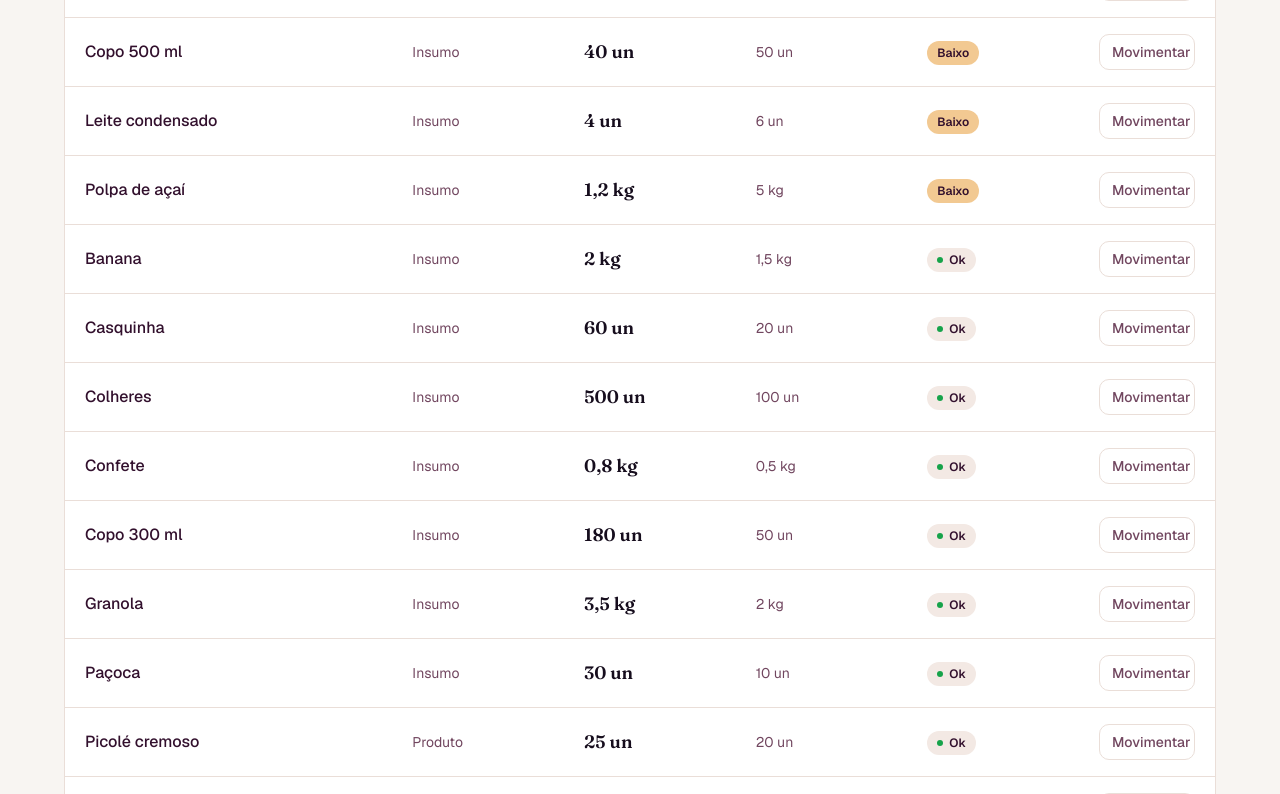
InventoryExperience › reads a thousands dot as thousands for items counted in units
This screenshot has width=1280, height=794.
(page scrolled)
Click the button with aria-label "Movimentar Colheres" at (1147, 397), box x1=1099 y1=379 x2=1195 y2=415
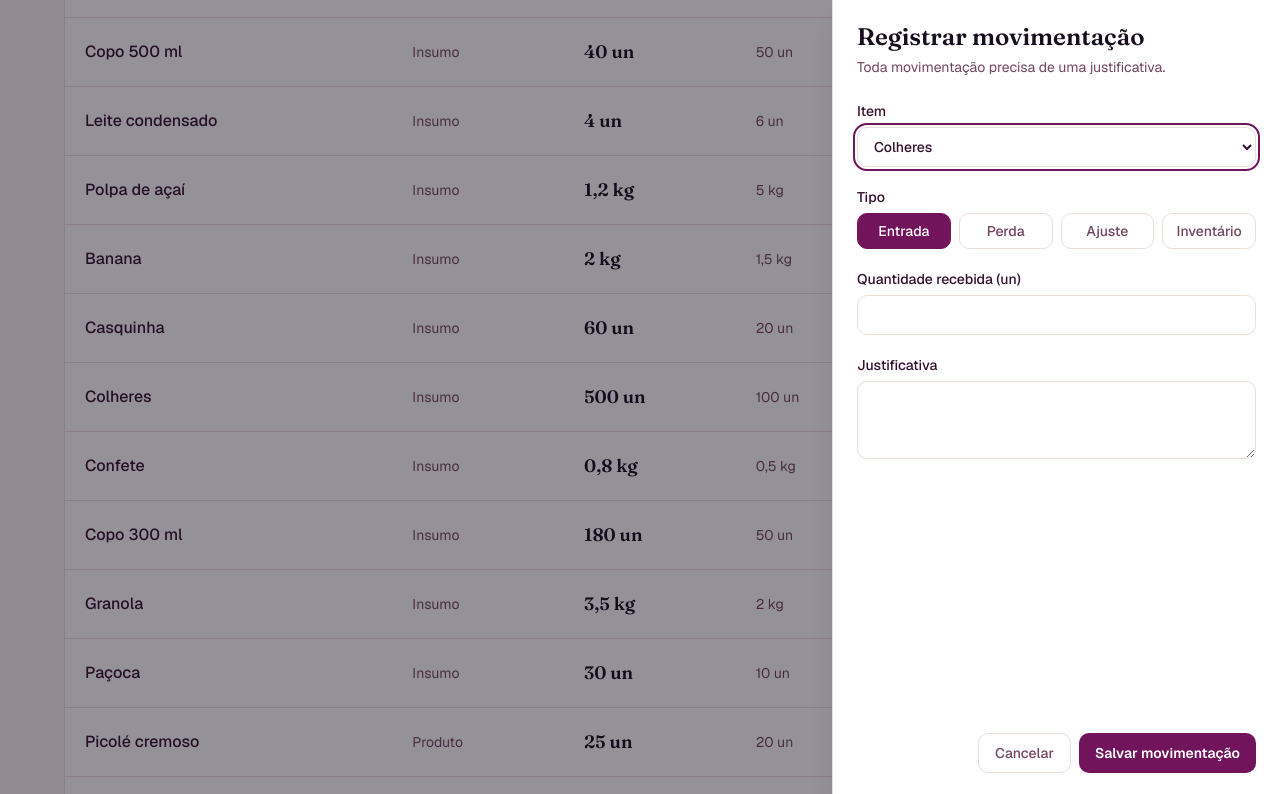
Type "1.000" into the field labelled "Quantidade recebida (un)" at (1056, 315), box x1=857 y1=295 x2=1256 y2=335
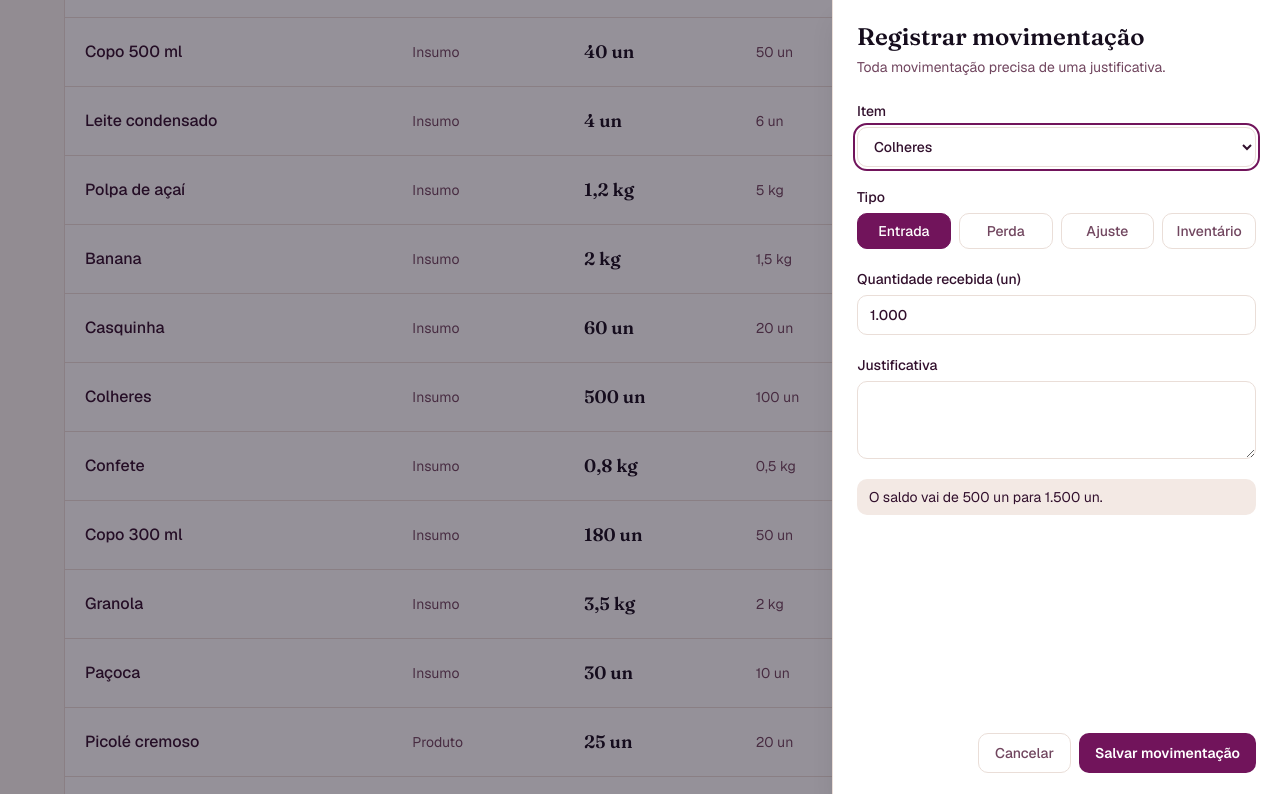
Result: the text "O saldo vai de 500 un para 1.500 un." is shown at x1=857 y1=479 x2=1256 y2=515
